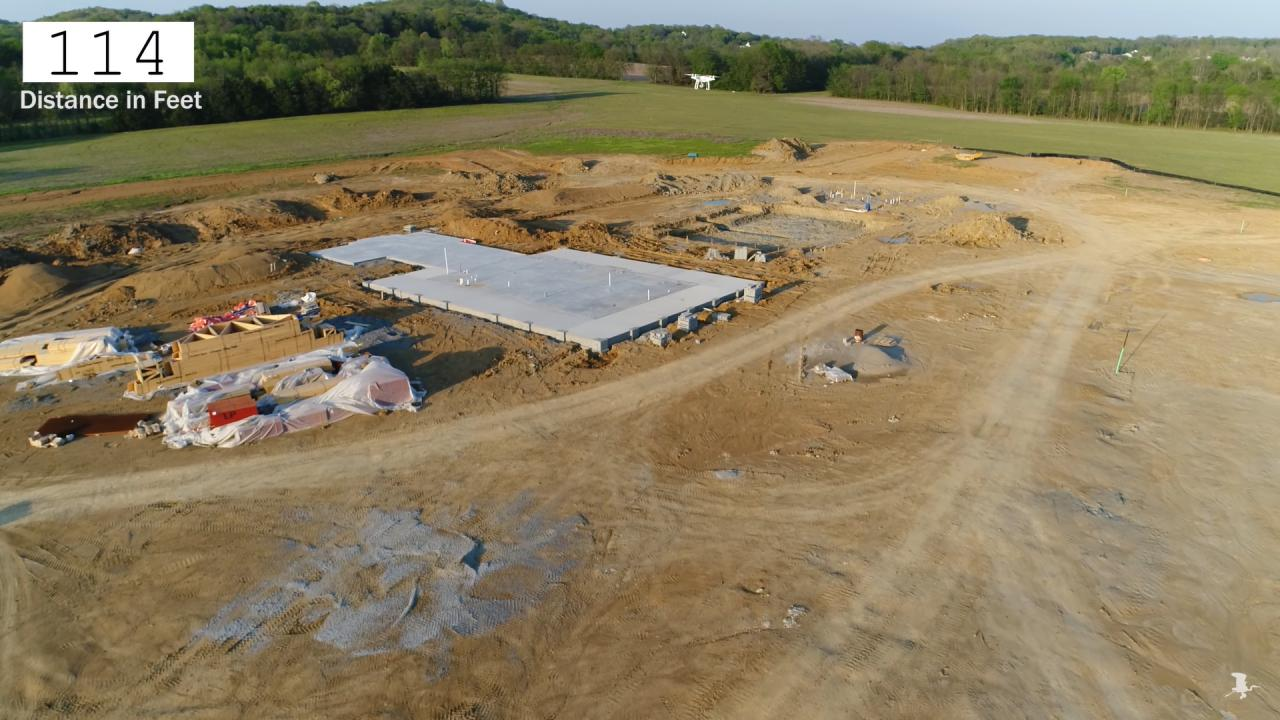Drone: (678, 64, 725, 99)
